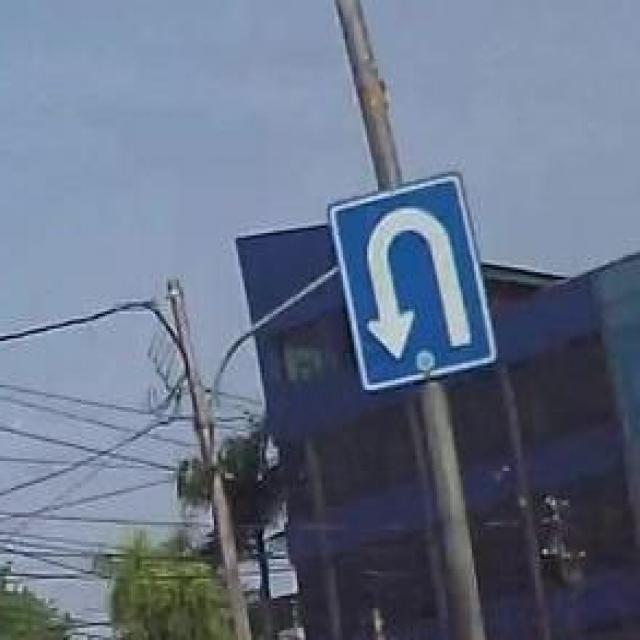U-turn: (328, 170, 490, 388)
